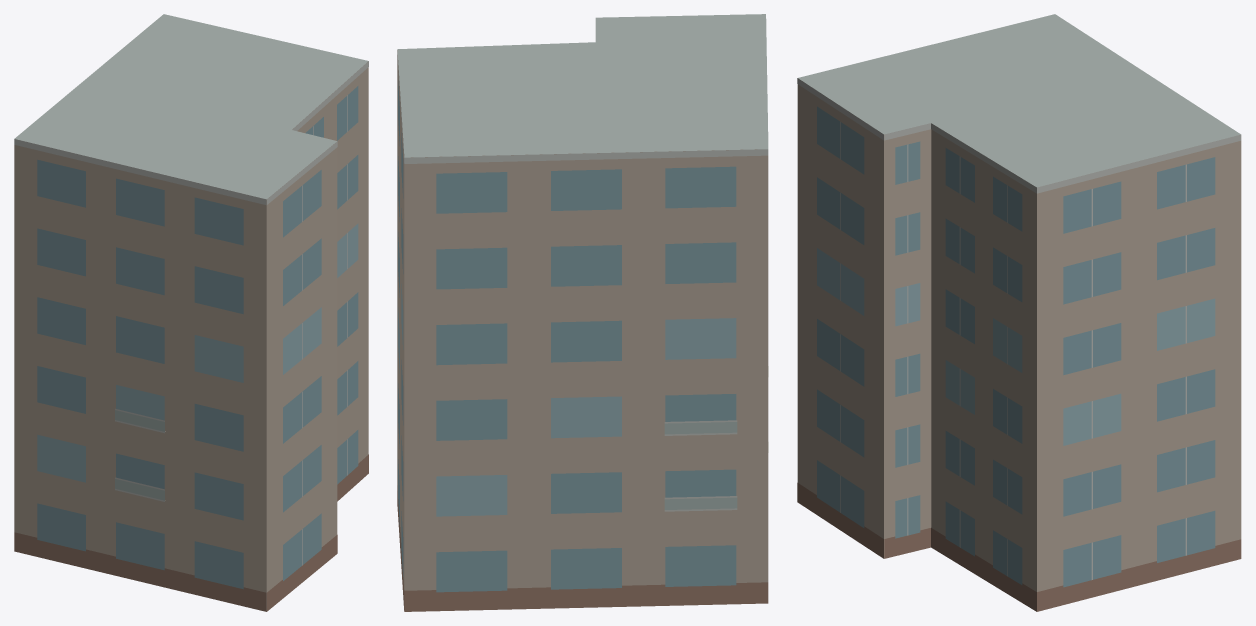
File: survey-upis-32848210.glb
3 renders of one model, left to right at view 1: azimuth 30°, elevation 25°; view 2: azimuth 150°, elevation 25°; view 3: azimuth 270°, elevation 25°, orthographic. The views are drawn at different scales.
Parts seen in each view (by area): view 1: survey-upis-32848210.tmp; view 2: survey-upis-32848210.tmp; view 3: survey-upis-32848210.tmp.
Part boxes in pixels (<box>): survey-upis-32848210.tmp: <box>14,14,368,611</box>; survey-upis-32848210.tmp: <box>397,14,768,611</box>; survey-upis-32848210.tmp: <box>797,14,1241,611</box>.
Bounding box in the file's own units: 14.92 × 17 × 16.12.
